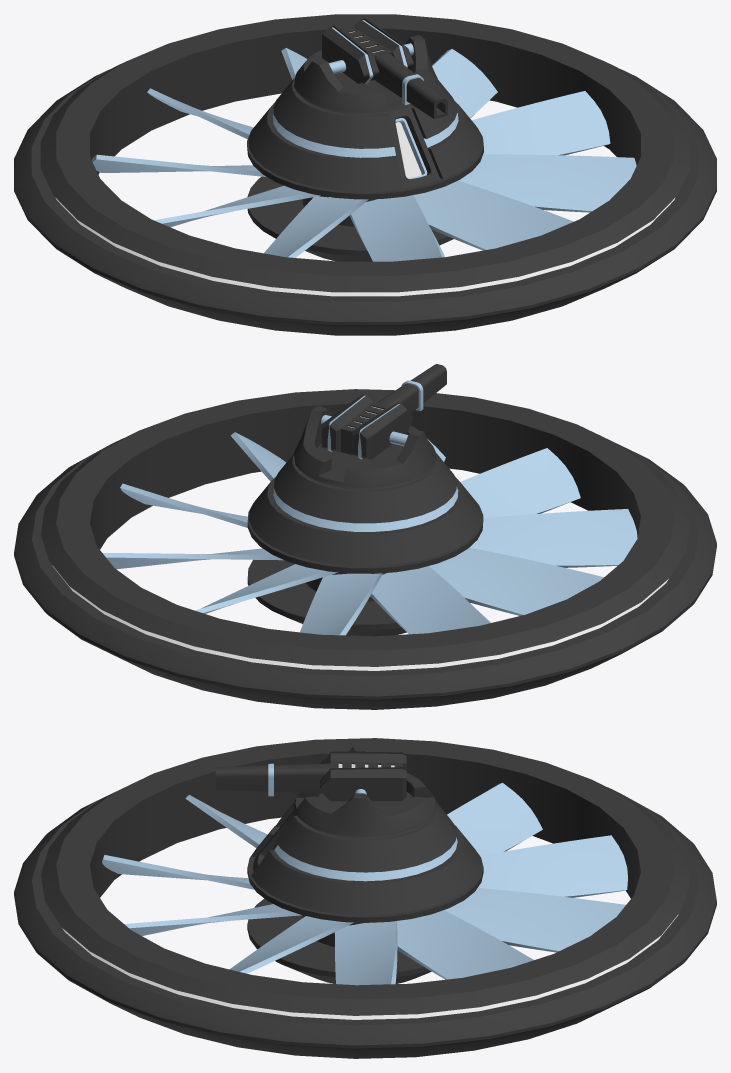
File: enemy_flying_shocker.fbx
The picture shows the model from 3 angles, top to bottom: view 1: azimuth 30°, elevation 25°; view 2: azimuth 150°, elevation 25°; view 3: azimuth 270°, elevation 25°; orthographic projection.
Parts seen in each view (by area): view 1: frame_outer-ring, aerofoil, frame_base, frame_base.001, Cube, Cube.001; view 2: frame_outer-ring, aerofoil, frame_base, frame_base.001, Cube, Cube.001; view 3: frame_outer-ring, aerofoil, frame_base, frame_base.001, Cube, Cube.001.
Part boxes in pixels (<box>): frame_outer-ring: <box>14,14,716,335</box>; aerofoil: <box>92,48,636,261</box>; frame_base: <box>247,78,483,261</box>; frame_base.001: <box>294,35,437,112</box>; Cube: <box>322,18,413,83</box>; Cube.001: <box>374,53,447,118</box>; frame_outer-ring: <box>14,389,716,709</box>; aerofoil: <box>102,432,637,635</box>; frame_base: <box>247,453,483,636</box>; frame_base.001: <box>293,406,436,487</box>; Cube: <box>321,394,412,459</box>; Cube.001: <box>377,364,446,413</box>; frame_outer-ring: <box>14,738,716,1058</box>; aerofoil: <box>102,783,627,985</box>; frame_base: <box>247,802,483,983</box>; frame_base.001: <box>293,746,437,836</box>; Cube: <box>320,751,406,801</box>; Cube.001: <box>215,763,330,796</box>.
Size of the model in its own units: 432 by 134 by 432.
